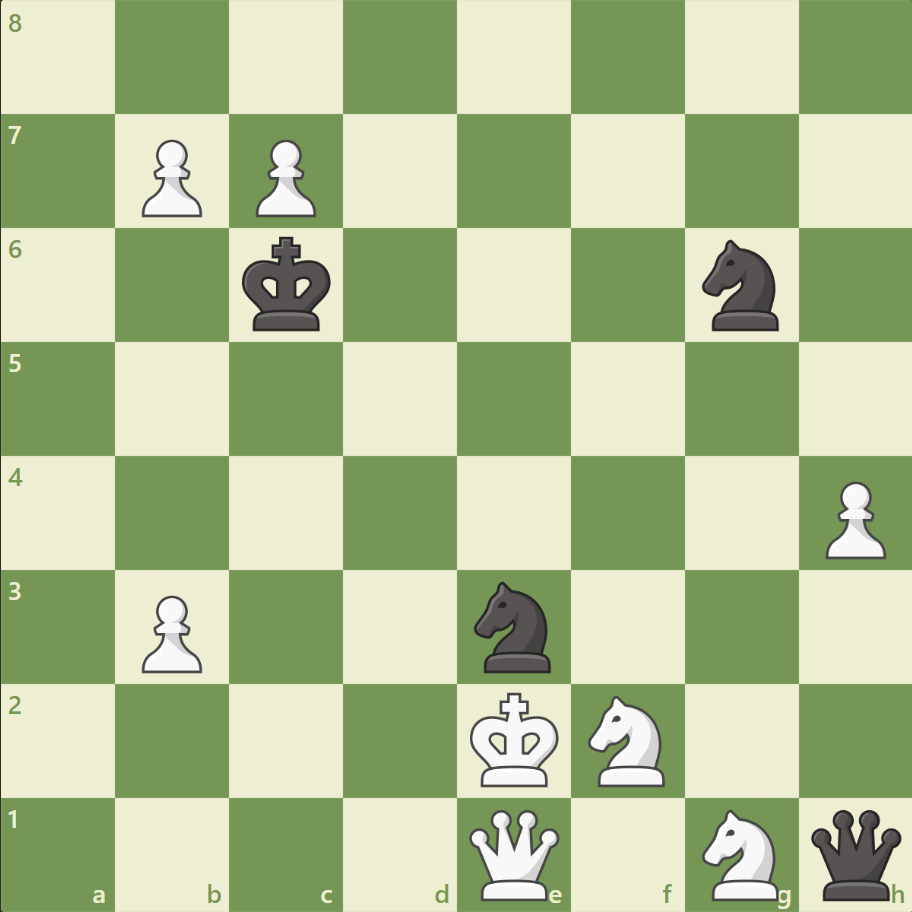K: (465, 685, 565, 793)
N: (579, 688, 676, 791), (692, 802, 789, 904)
P: (133, 132, 208, 223), (247, 132, 322, 223), (133, 586, 208, 677), (815, 473, 889, 564)
Q: (464, 804, 563, 903)
k: (238, 231, 338, 339)
n: (692, 234, 789, 337), (465, 575, 562, 677)
q: (805, 804, 904, 903)
